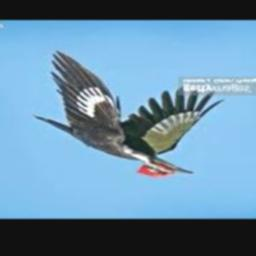Woodpecker: (33, 50, 225, 178)
